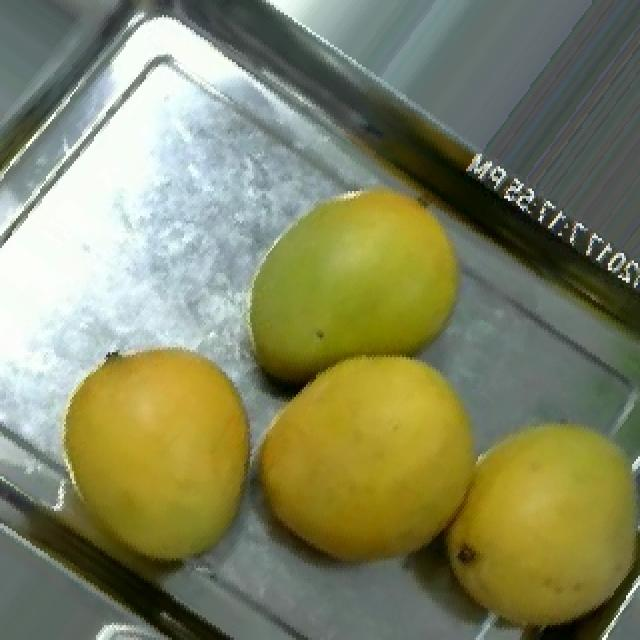mango: (256, 352, 474, 563), (246, 184, 460, 382), (60, 344, 250, 560), (444, 419, 638, 625)
